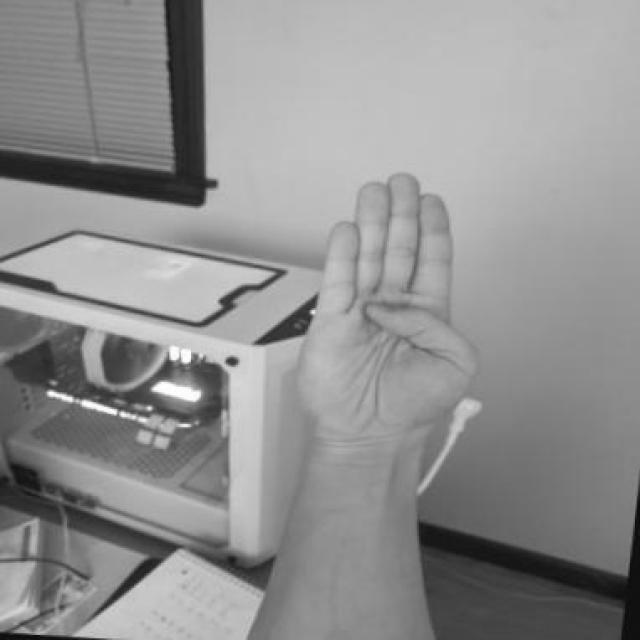B: (283, 160, 509, 467)
